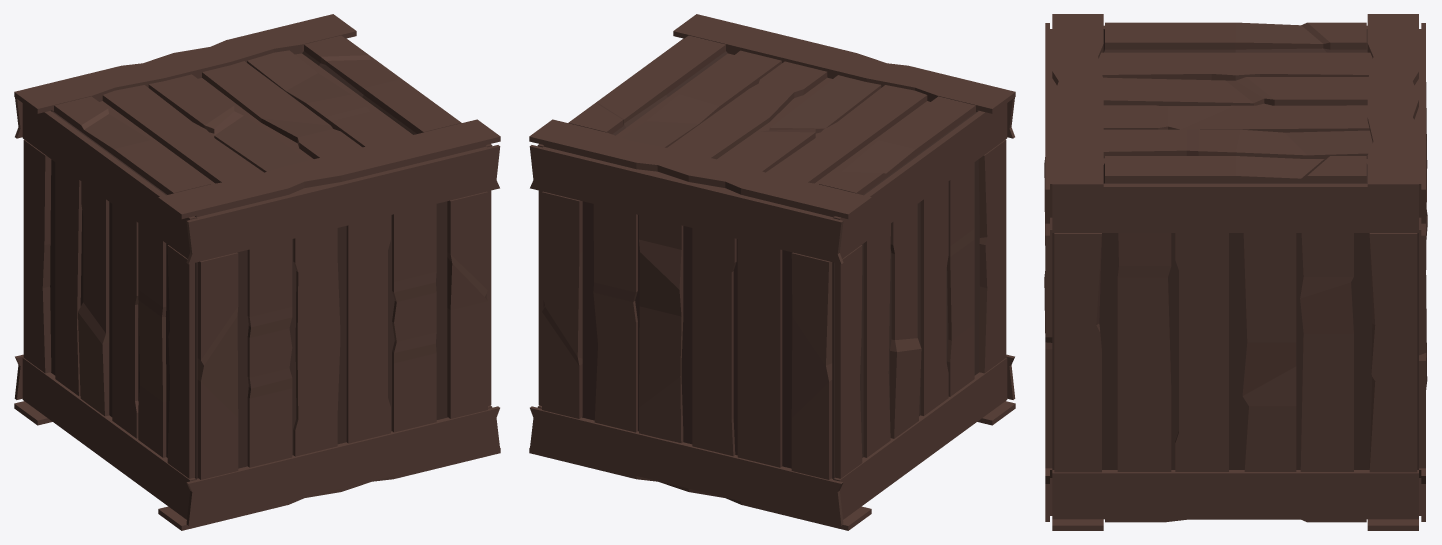
File: dn_crate.glb
3 renders of one model, left to right at view 1: azimuth 30°, elevation 25°; view 2: azimuth 150°, elevation 25°; view 3: azimuth 270°, elevation 25°, orthographic. The views are drawn at different scales.
Visible parts, largest first — view 1: dn_crate2; view 2: dn_crate2; view 3: dn_crate2.
Part boxes in pixels (x1,y1,x2,y2): dn_crate2: [14, 14, 500, 530]; dn_crate2: [529, 14, 1015, 530]; dn_crate2: [1044, 14, 1427, 530].
Bounding box in the file's own units: 1.06 × 1 × 1.
